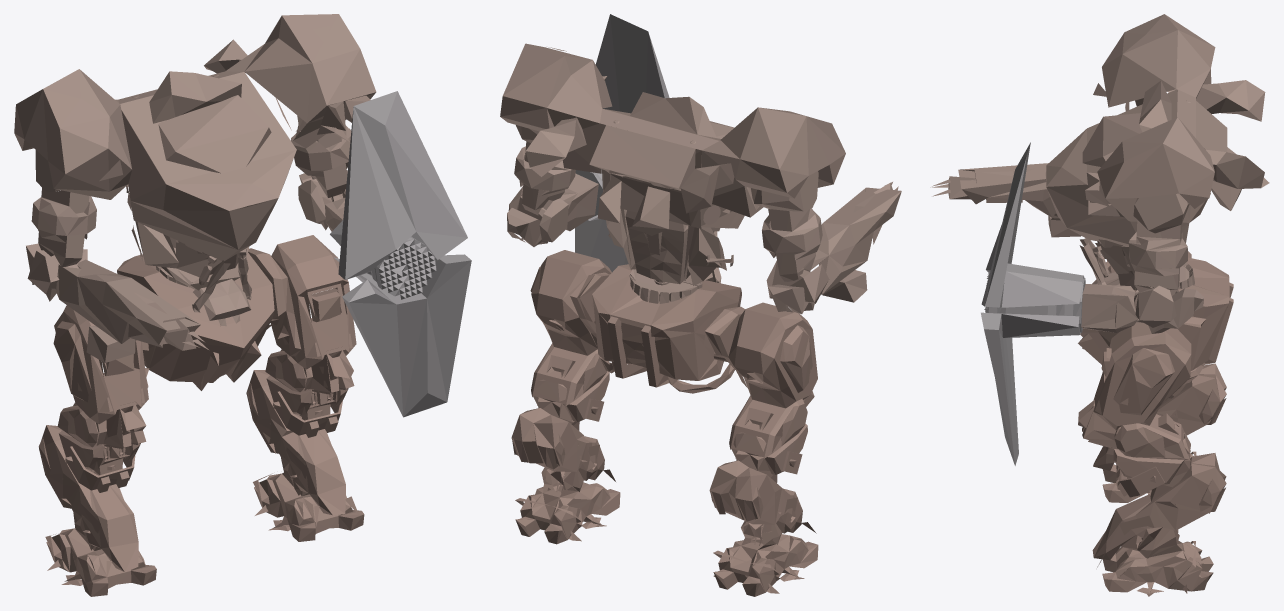
File: megabot.glb
3 renders of one model, left to right at view 1: azimuth 30°, elevation 25°; view 2: azimuth 150°, elevation 25°; view 3: azimuth 270°, elevation 25°, orthographic. The views are drawn at different scales.
Visible parts, largest first — view 1: geo_l_arm_01_UPPER_BODY_LOW_0, geo_pelvis_01_LOWer_BODY_LOW_0, geo_l_shield_01_SHELL_0; view 2: geo_l_arm_01_UPPER_BODY_LOW_0, geo_pelvis_01_LOWer_BODY_LOW_0, geo_l_shield_01_SHELL_0; view 3: geo_l_arm_01_UPPER_BODY_LOW_0, geo_pelvis_01_LOWer_BODY_LOW_0, geo_l_shield_01_SHELL_0.
Boxes of the visible parts, <box> form: geo_l_arm_01_UPPER_BODY_LOW_0: <box>14,14,376,362</box>; geo_pelvis_01_LOWer_BODY_LOW_0: <box>38,235,364,596</box>; geo_l_shield_01_SHELL_0: <box>330,91,471,417</box>; geo_l_arm_01_UPPER_BODY_LOW_0: <box>500,43,901,314</box>; geo_pelvis_01_LOWer_BODY_LOW_0: <box>511,250,818,596</box>; geo_l_shield_01_SHELL_0: <box>575,14,669,272</box>; geo_l_arm_01_UPPER_BODY_LOW_0: <box>930,14,1269,333</box>; geo_pelvis_01_LOWer_BODY_LOW_0: <box>1078,251,1233,596</box>; geo_l_shield_01_SHELL_0: <box>981,142,1085,465</box>.
Size of the model in its own units: 423 by 592 by 393.
